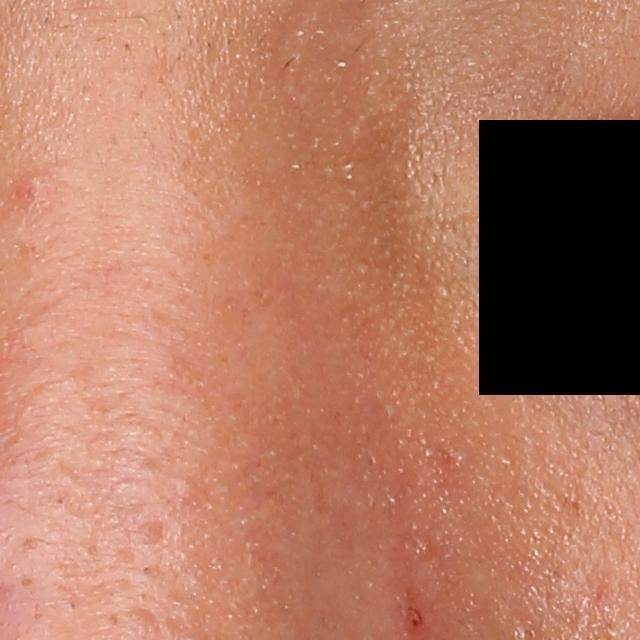papule: (21, 169, 49, 199)
